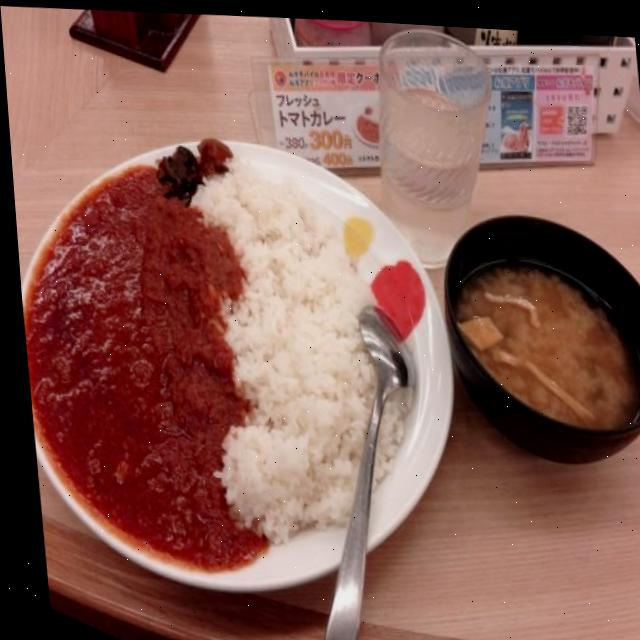汤锅炖物: (429, 196, 640, 498)
牛肉菜式: (7, 117, 477, 622)
